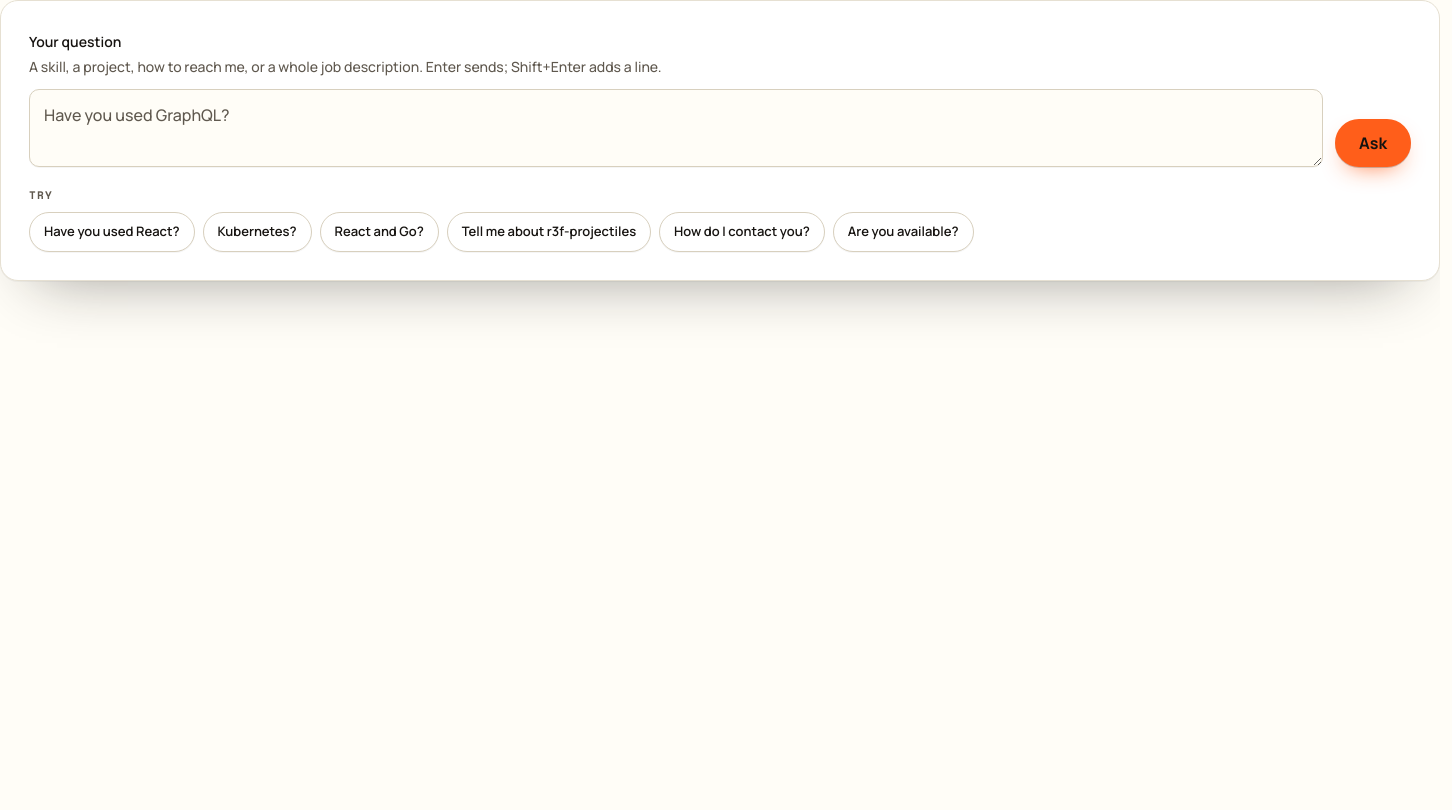
Test case: AskPanel › names each turn "Question N"; a pasted JD is read as its role, not its full text
In the text box labelled "Your question": (676, 128) left=29, top=89, right=1323, bottom=167, type "Senior Full Stack Engineer You'll build features end to end across our Node.js services and React frontend. What you'll need: - 6+ years of professional software engineering experience - Node.js and T"
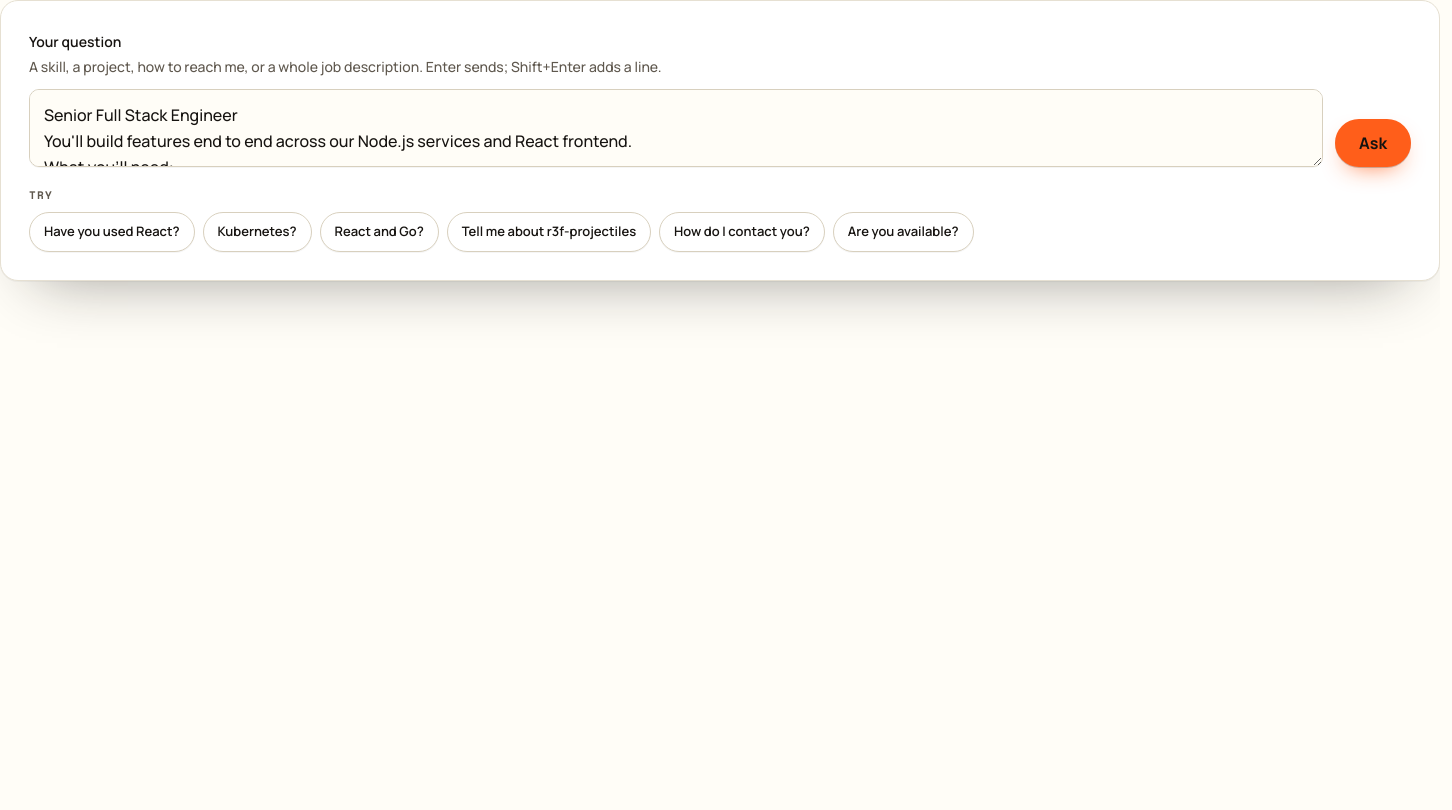
Press Enter in the text box labelled "Your question", box left=29, top=89, right=1323, bottom=167
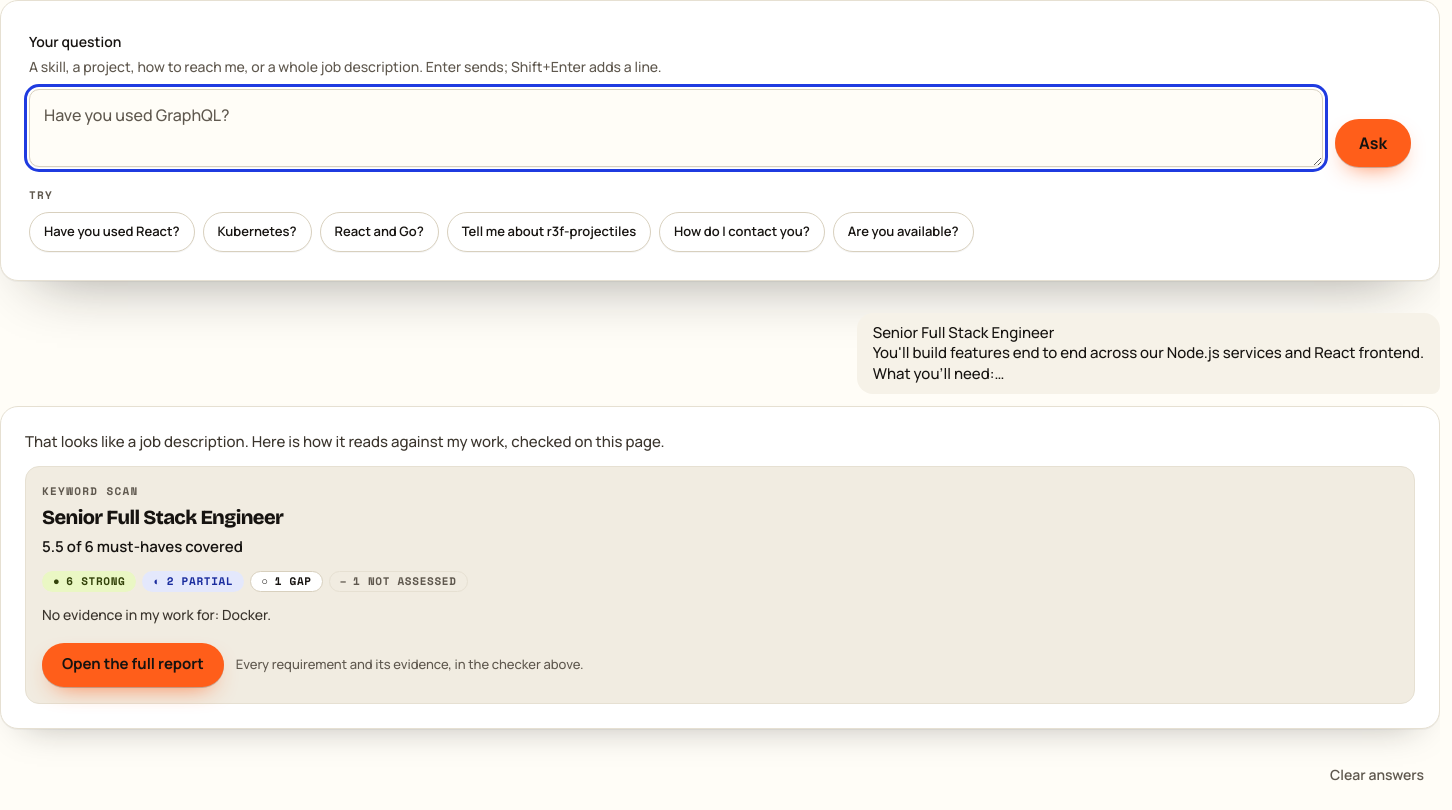
Now the number of list items with test id "ask-turn" is 1, box left=0, top=312, right=1440, bottom=729
